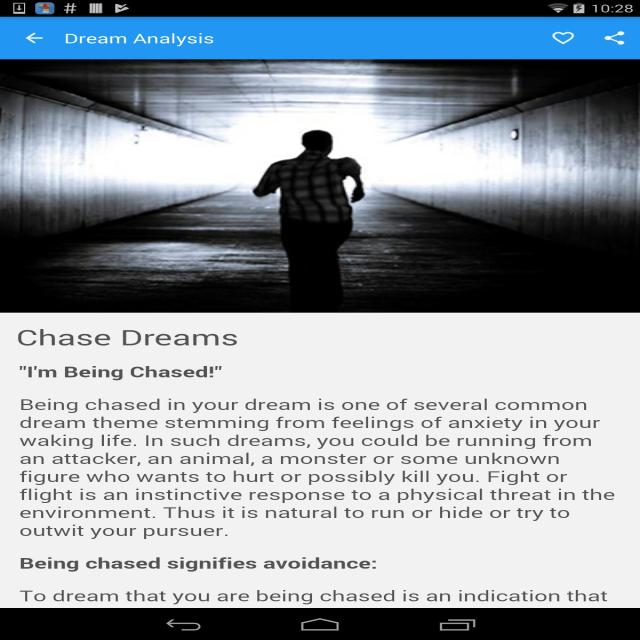button: (15, 29, 54, 50), (547, 30, 582, 49), (602, 29, 628, 48)
heading: (19, 556, 381, 573), (15, 328, 239, 349), (18, 363, 226, 383), (63, 31, 215, 48)
image: (2, 60, 640, 313)
text: (17, 398, 618, 540), (19, 587, 618, 607)
